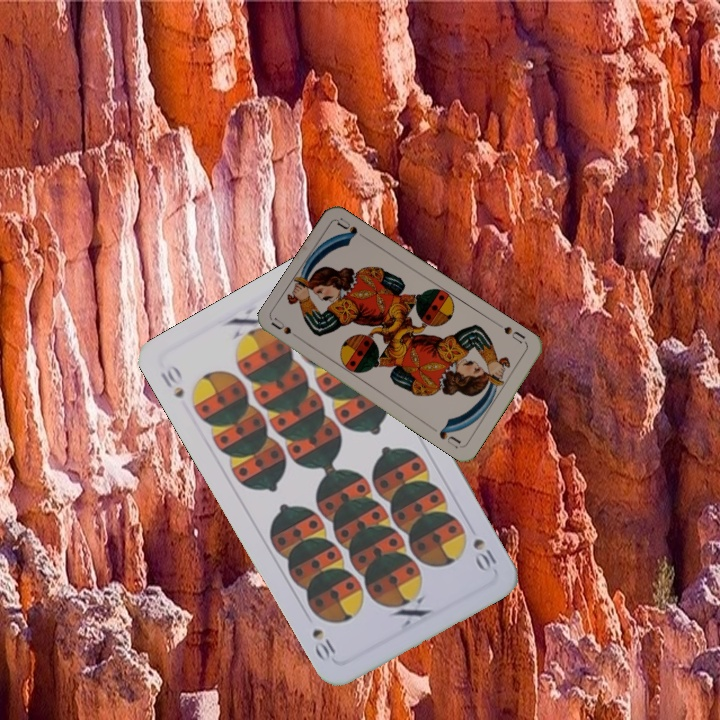S10: (468, 534, 499, 575), (156, 360, 187, 401)
SU: (268, 314, 306, 344), (494, 319, 528, 346)
